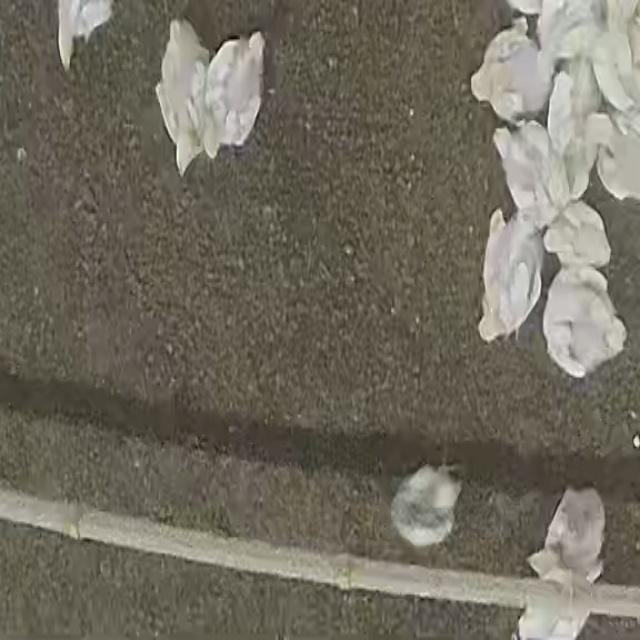chicken: (474, 207, 544, 346), (542, 267, 626, 381), (154, 17, 211, 178), (204, 30, 271, 166), (466, 23, 552, 127), (384, 453, 468, 549), (544, 198, 617, 265)
